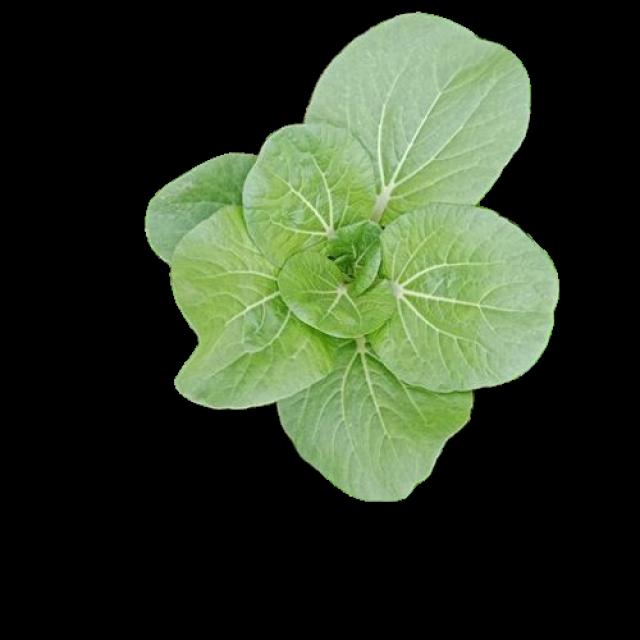healthy: (143, 10, 553, 497)
mature: (146, 13, 555, 499)
